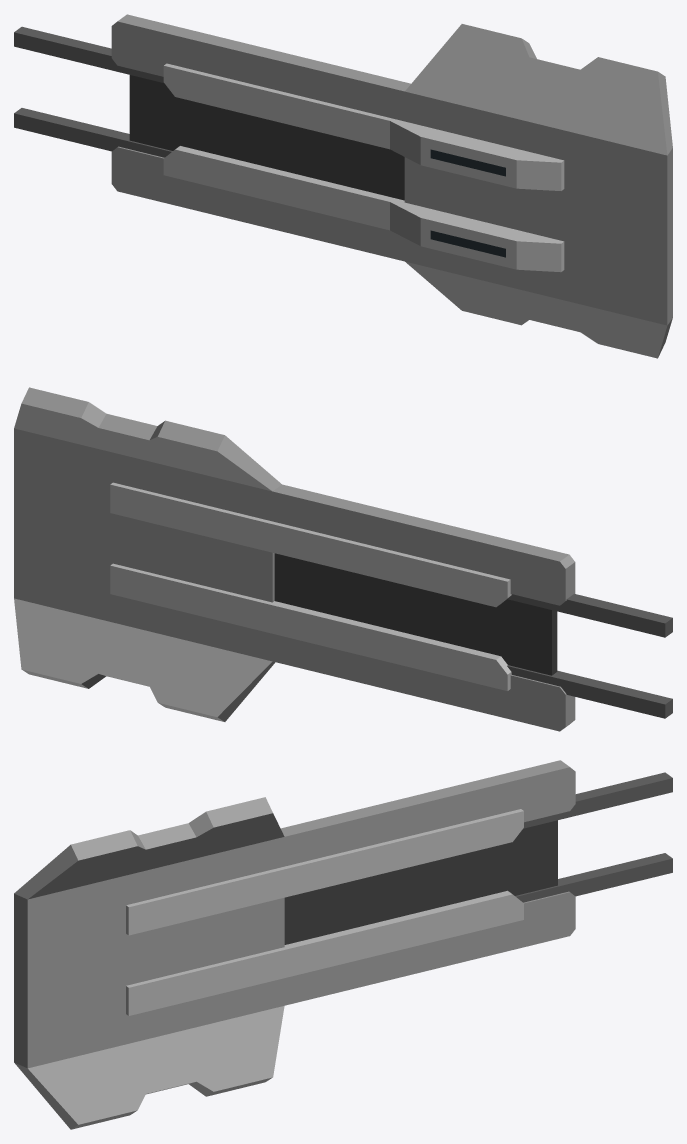
File: WingFrontRight_001.fbx
3 renders of one model, top to bottom at view 1: azimuth 30°, elevation 25°; view 2: azimuth 210°, elevation 25°; view 3: azimuth 270°, elevation 25°, orthographic.
Visible parts, largest first — view 1: WingFrontRight_001; view 2: WingFrontRight_001; view 3: WingFrontRight_001.
Part boxes in pixels (left/top/right/bottom): WingFrontRight_001: left=14, top=14, right=672, bottom=358; WingFrontRight_001: left=14, top=387, right=672, bottom=731; WingFrontRight_001: left=14, top=760, right=672, bottom=1129.
Bounding box in the file's own units: 329 × 530 × 253.
